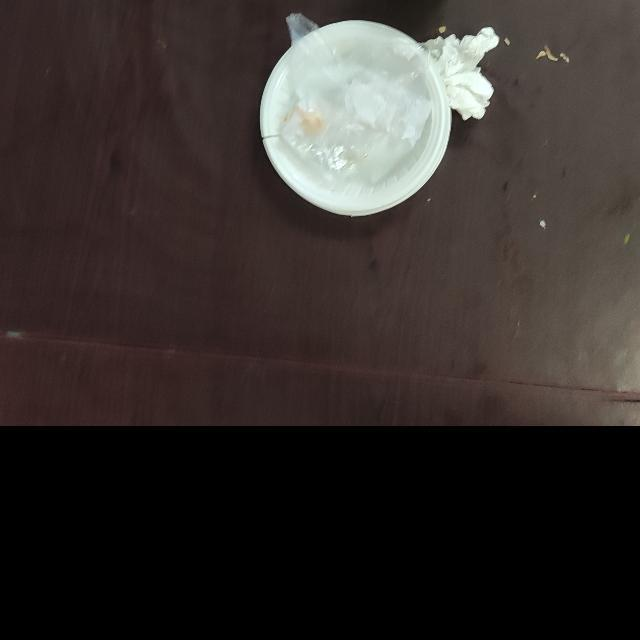kitchen paper: (418, 22, 508, 124)
